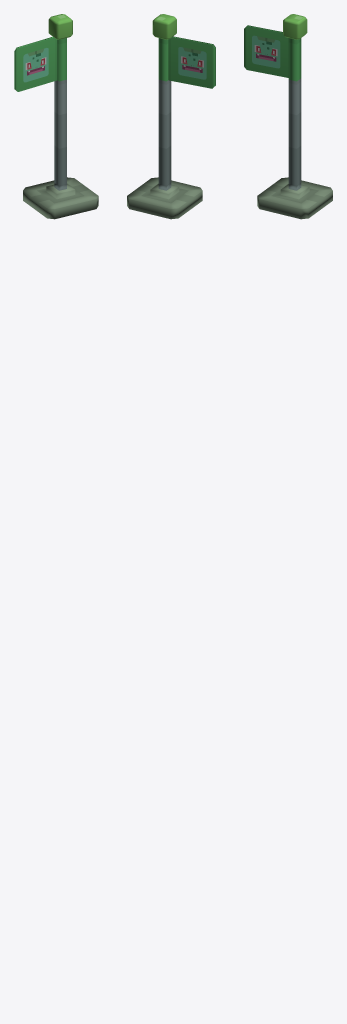
The model's file is G_makeover_S_7.fbx.
3 renders of one model, left to right at view 1: azimuth 30°, elevation 25°; view 2: azimuth 150°, elevation 25°; view 3: azimuth 330°, elevation 25°, orthographic.
Parts seen in each view (by area): view 1: pole, flag; view 2: pole, flag; view 3: pole, flag.
Part boxes in pixels (x1,y1,x2,y2): pole: [23, 14, 98, 219]; flag: [14, 36, 57, 91]; pole: [127, 14, 202, 219]; flag: [168, 36, 215, 88]; pole: [257, 14, 332, 219]; flag: [244, 25, 288, 77].
Size of the model in its own units: 2.87 by 36.84 by 2.
